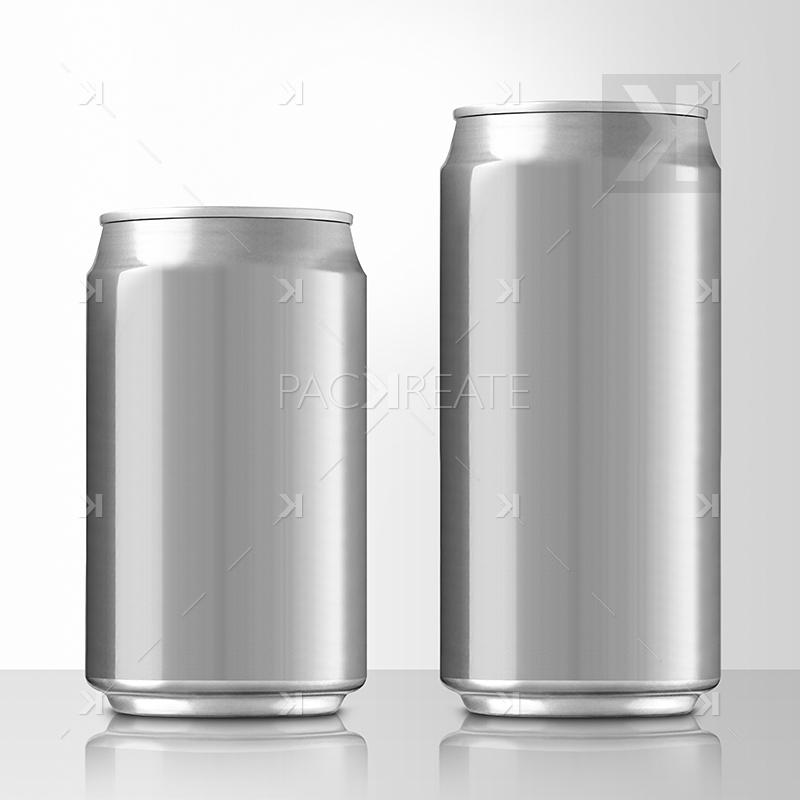beer can: (439, 105, 723, 725), (86, 209, 370, 722)
